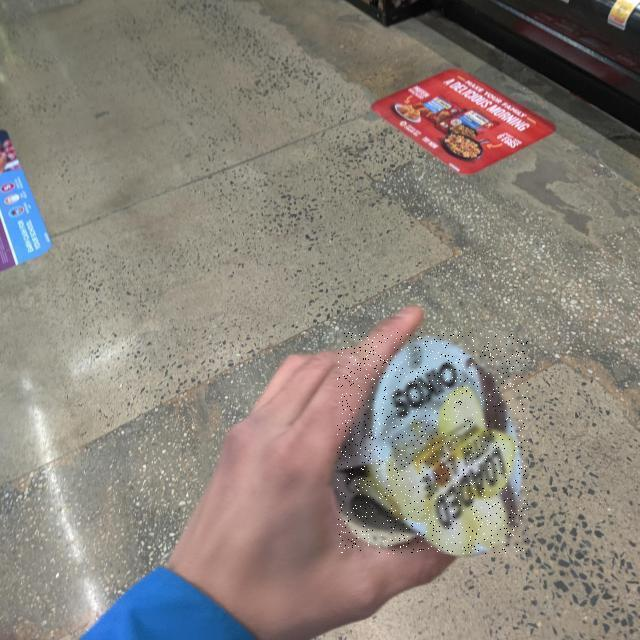Yoghurt: (337, 333, 528, 555)
